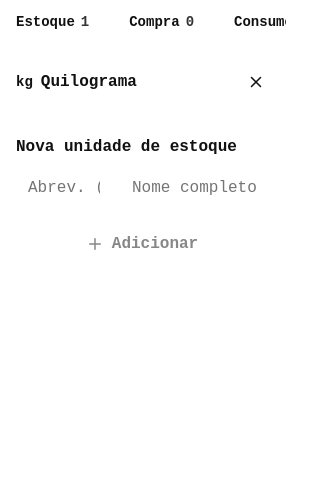
Test case: SecaoUnidades, exclusão › recusa do banco mantém a unidade e mostra o motivo, sem gravar nada
Click the button named "Remover unidade Quilograma" at [256, 82], box [234,60,278,104]
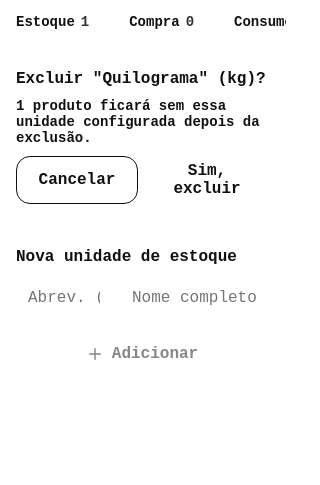
Now the text "1 produto ficará sem essa" is shown, box [16,98,268,146]
Click the button "Sim, excluir" at [207, 180], box [146,156,268,204]
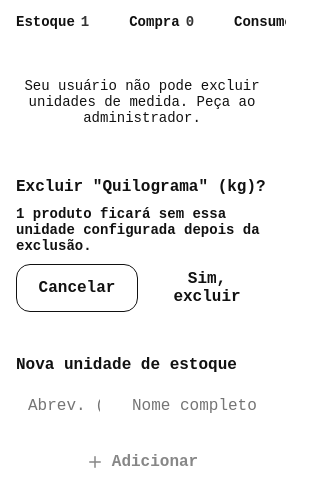
Now the text "Excluir \"Quilograma\" (kg)?" is shown, box [16,178,268,196]
Now the message shows "Peça ao administrador", box [24,78,260,126]
